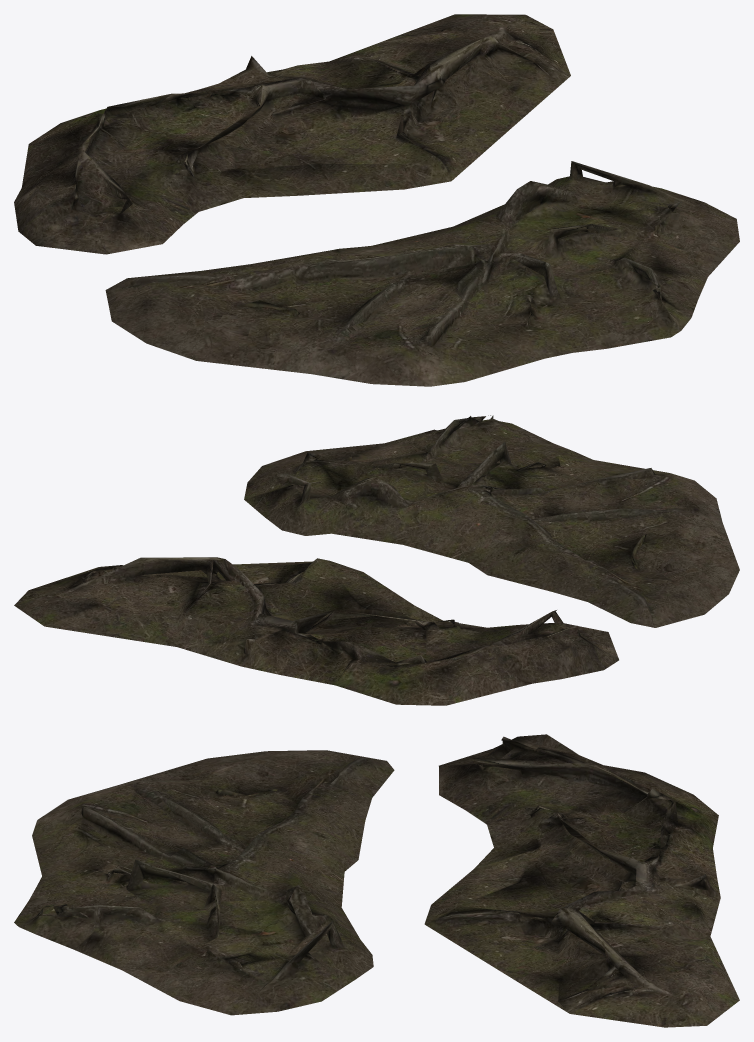
Rendered from roots.glb.
The picture shows the model from 3 angles, top to bottom: view 1: azimuth 30°, elevation 25°; view 2: azimuth 150°, elevation 25°; view 3: azimuth 270°, elevation 25°; orthographic projection. The views are drawn at different scales.
Parts seen in each view (by area): view 1: pine_roots_b, pine_roots_a; view 2: pine_roots_b, pine_roots_a; view 3: pine_roots_b, pine_roots_a.
Boxes of the visible parts, <box> form: pine_roots_b: <box>105,161,739,386</box>; pine_roots_a: <box>14,14,570,254</box>; pine_roots_b: <box>244,415,739,627</box>; pine_roots_a: <box>14,557,618,705</box>; pine_roots_b: <box>14,750,394,1015</box>; pine_roots_a: <box>424,734,739,1027</box>.
Size of the model in its own units: 2.44 by 0.2 by 2.62.
Materials: 2 (2 with a texture image).
